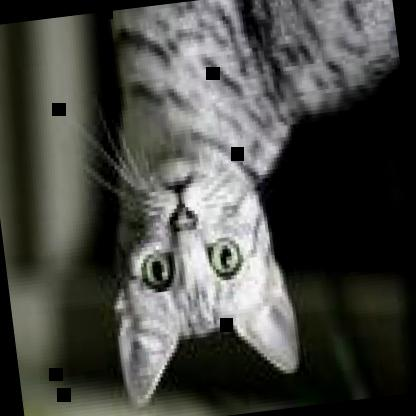cat: (76, 0, 415, 413)
